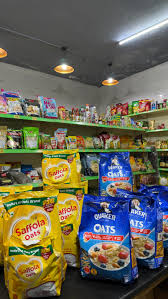saffola: (0, 191, 68, 298), (59, 199, 87, 256), (40, 151, 79, 188), (96, 213, 115, 233)
